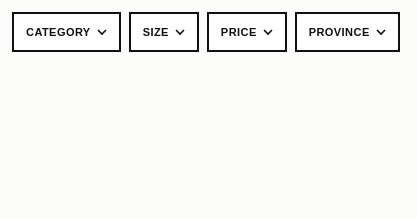
it: FilterBar on desktop › says when there are no sizes to choose
The image size is (417, 219).
Step 1. Click the button "SIZE" → [164, 32], box [129,12,199,52]
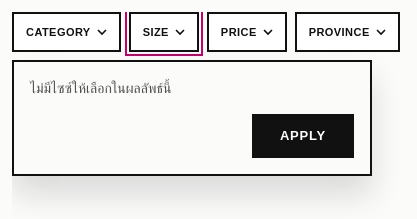
Expected: the text "ไม่มีไซซ์ให้เลือกในผลลัพธ์นี้" is shown, [30,78,171,97]
